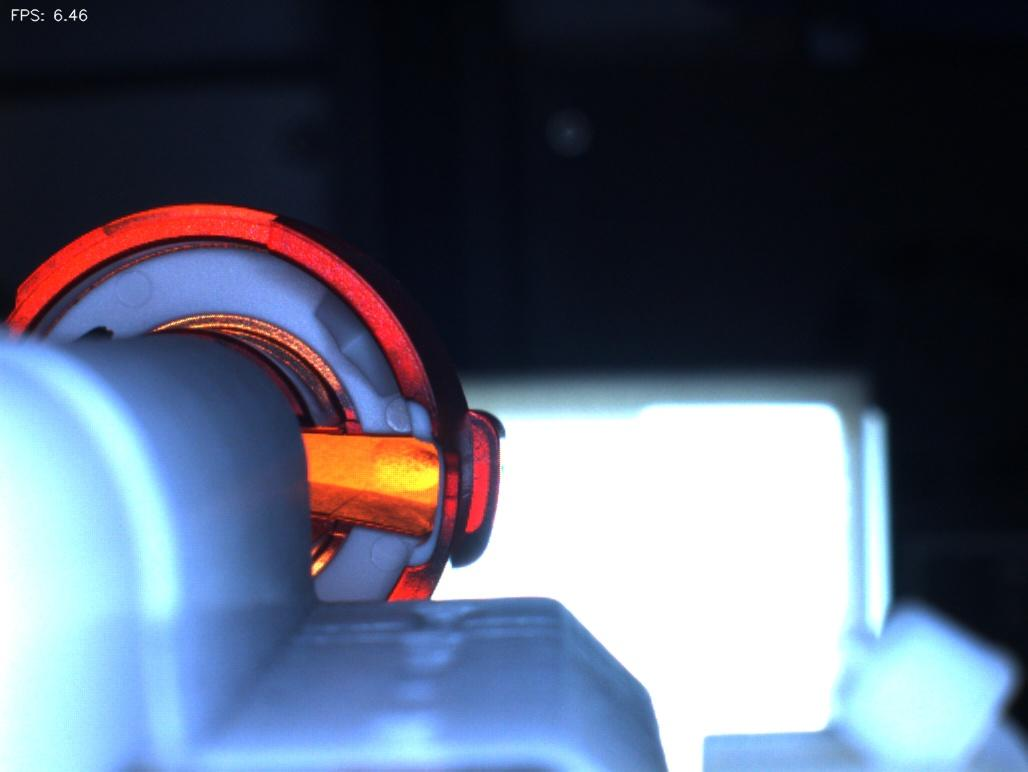Retassure: (355, 435, 446, 501)
